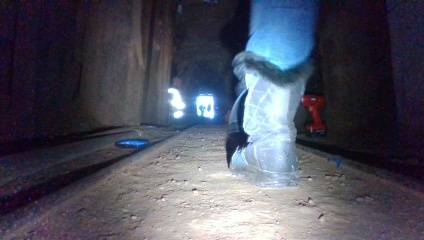cellphone: (113, 136, 149, 149)
drill: (300, 96, 327, 139)
manikin: (165, 75, 195, 127)
